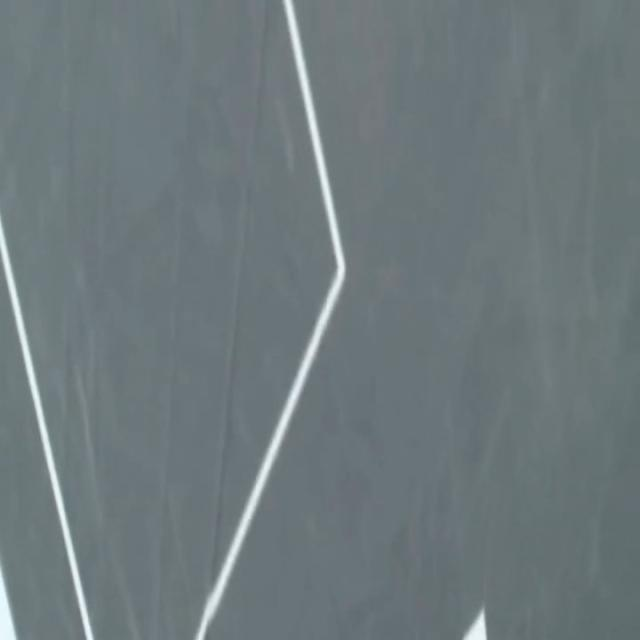left: (0, 564, 16, 639)
